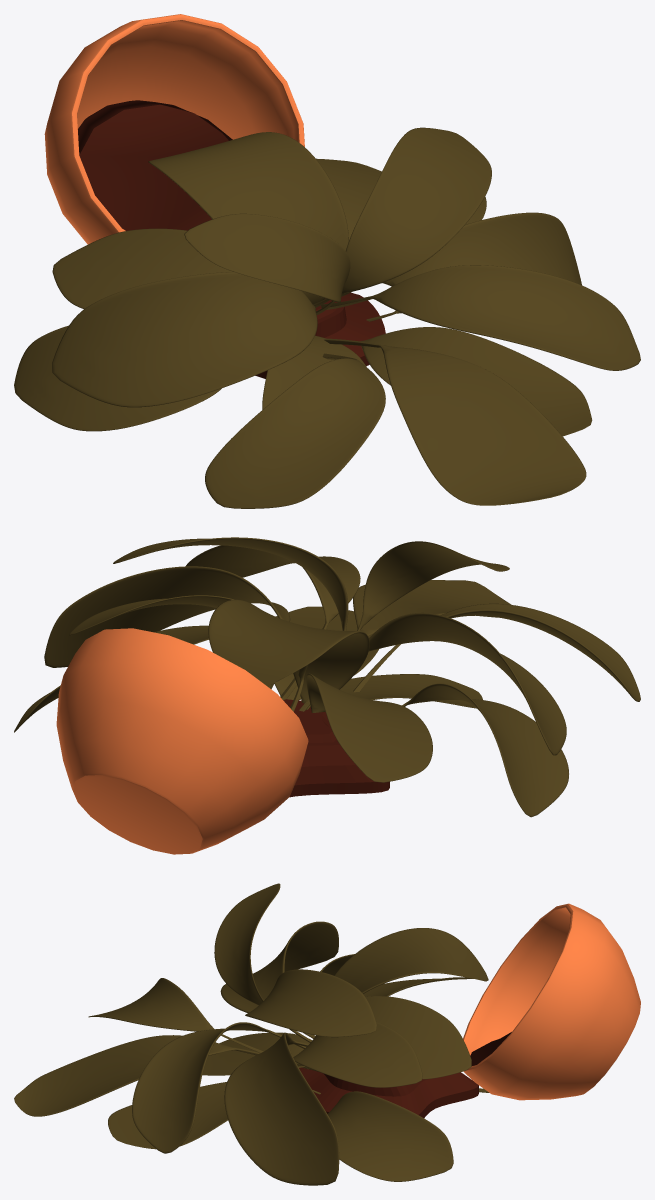
File: EH Plant KnockedOver.fbx
3 views of the same model, one above another, from view 1: azimuth 30°, elevation 25°; view 2: azimuth 150°, elevation 25°; view 3: azimuth 270°, elevation 25° (orthographic). The views are drawn at different scales.
Parts seen in each view (by area): view 1: Line111, pot005, dirt005, Line124; view 2: Line111, pot005, Line124; view 3: Line111, pot005, Line124, dirt005.
Boxes of the visible parts, <box> form: Line111: <box>14,127,640,508</box>; pot005: <box>44,14,304,244</box>; dirt005: <box>78,100,232,230</box>; Line124: <box>255,292,385,378</box>; Line111: <box>14,537,640,817</box>; pot005: <box>56,628,308,854</box>; Line124: <box>283,699,389,797</box>; Line111: <box>14,883,489,1185</box>; pot005: <box>463,903,640,1100</box>; Line124: <box>299,1067,478,1117</box>; dirt005: <box>470,1032,511,1065</box>.
Bounding box in the file's own units: 63.39 × 27.58 × 83.76.
